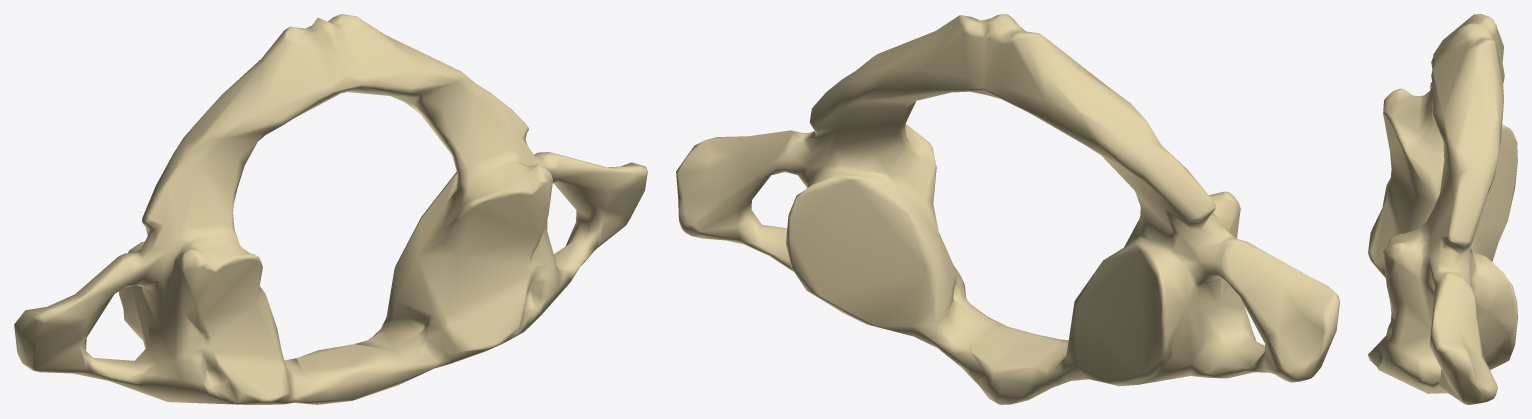
3 views of the same model, side by side, from view 1: azimuth 30°, elevation 25°; view 2: azimuth 150°, elevation 25°; view 3: azimuth 270°, elevation 25° (orthographic). The views are drawn at different scales.
Visible parts, largest first — view 1: 寰椎; view 2: 寰椎; view 3: 寰椎.
Boxes of the visible parts, x1,y1,x2,y2 form: 寰椎: (14, 14, 647, 404); 寰椎: (676, 14, 1339, 404); 寰椎: (1368, 14, 1517, 404).
Size of the model in its own units: 0.1268 by 0.0723 by 0.0289.
